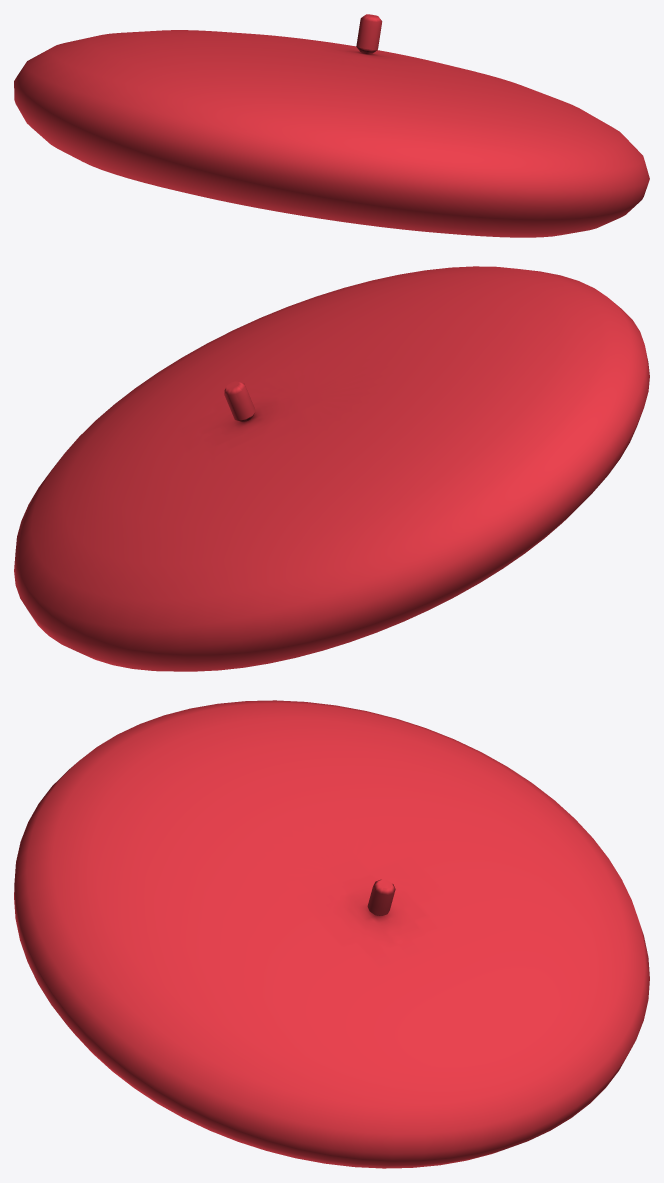
Rendered from hat_beret.glb.
The picture shows the model from 3 angles, top to bottom: view 1: azimuth 30°, elevation 25°; view 2: azimuth 150°, elevation 25°; view 3: azimuth 270°, elevation 25°; orthographic projection. The views are drawn at different scales.
Visible parts, largest first — view 1: hat_beret; view 2: hat_beret; view 3: hat_beret.
Part boxes in pixels (<box>): hat_beret: <box>14,14,649,237</box>; hat_beret: <box>14,266,649,671</box>; hat_beret: <box>14,700,649,1168</box>.
Bounding box in the file's own units: 0.6518 × 0.2995 × 0.6659.
Materials: 1 (1 with a texture image).
